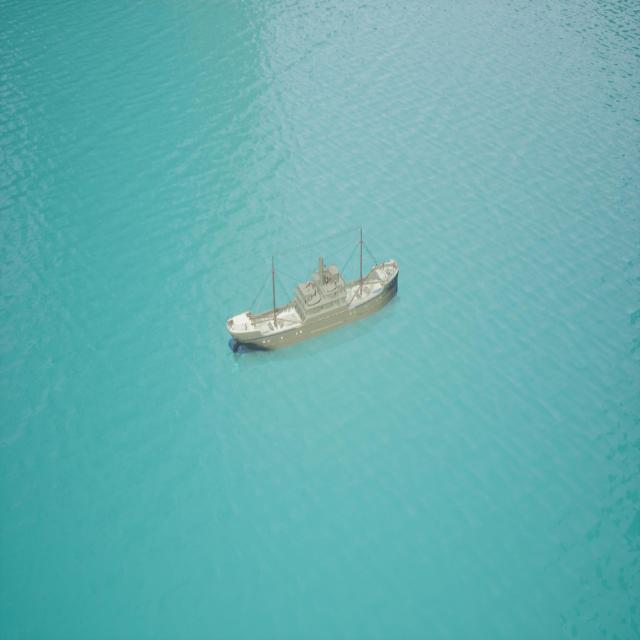fishing ship: (228, 251, 399, 357)
